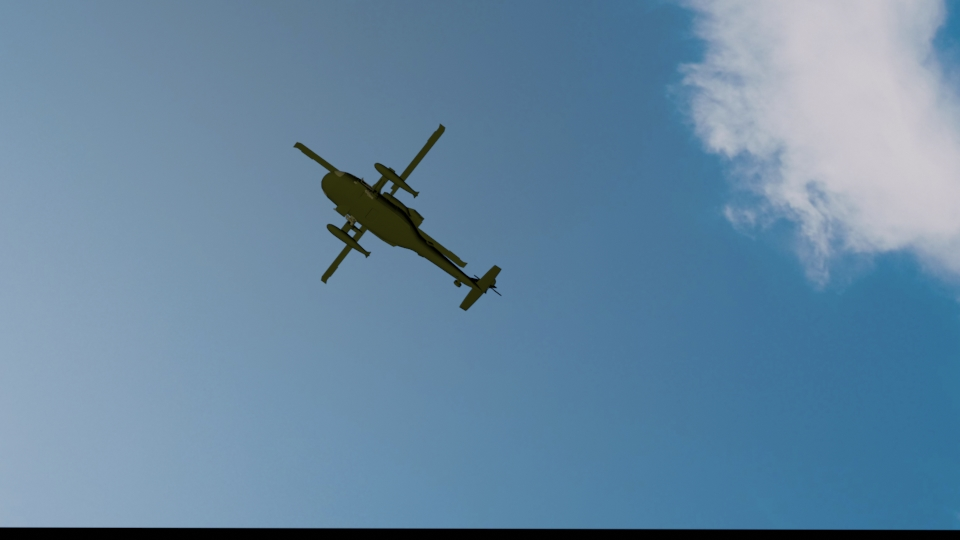heli: (292, 124, 502, 312)
